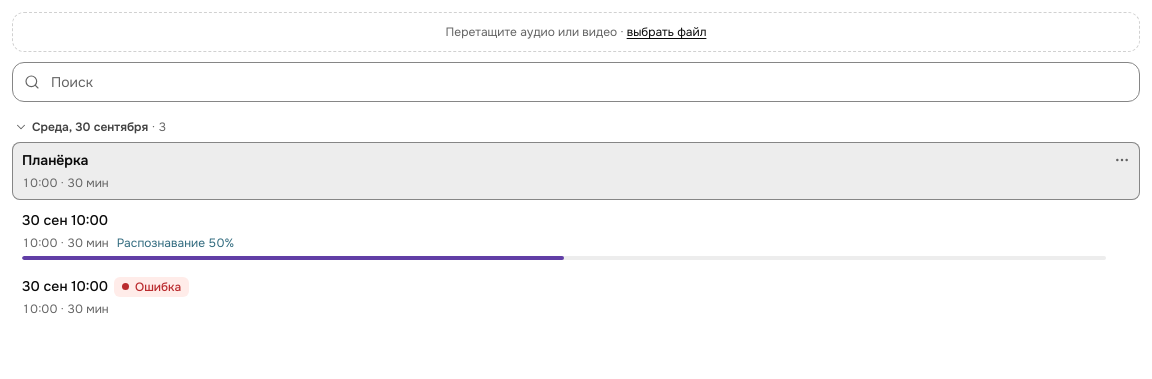
Test case: без папки для встреч и у нерасшифрованной записи — без выгрузки; ошибка видна
The width and height of the screenshot is (1152, 379).
Click the button named "Действия": (1122, 160) top-left (1110, 148), bottom-right (1134, 172)
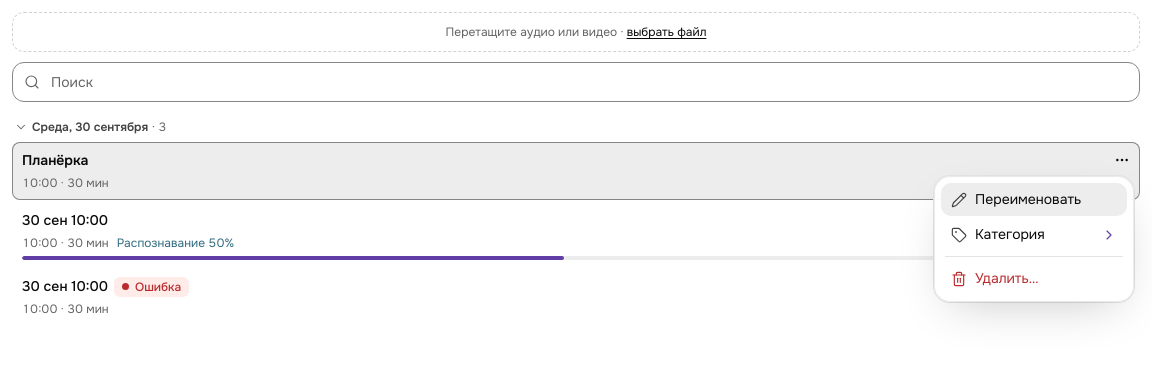
Click the menu item "Переименовать": (1034, 200) top-left (941, 183), bottom-right (1127, 216)
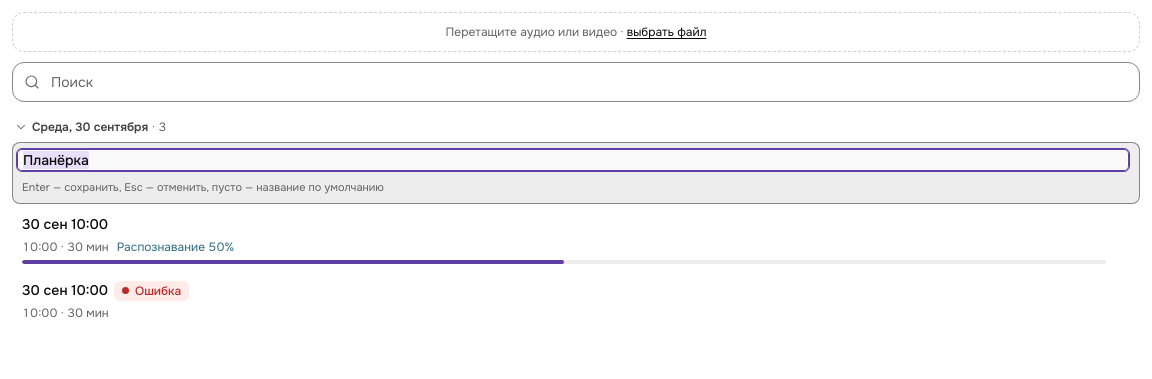
In the field named "Название записи": (573, 160) top-left (16, 148), bottom-right (1130, 172), type "Х"
Then press Enter
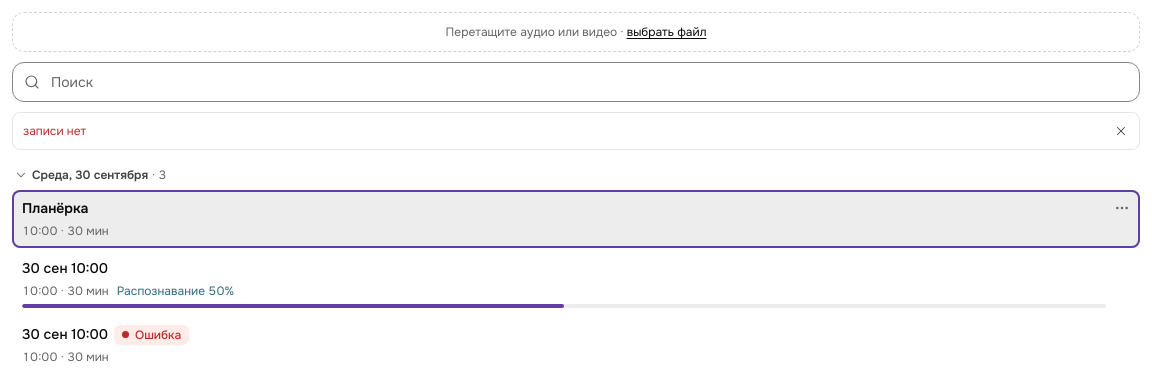
Expected: the message reads "записи нет", top-left (23, 123), bottom-right (86, 139)
